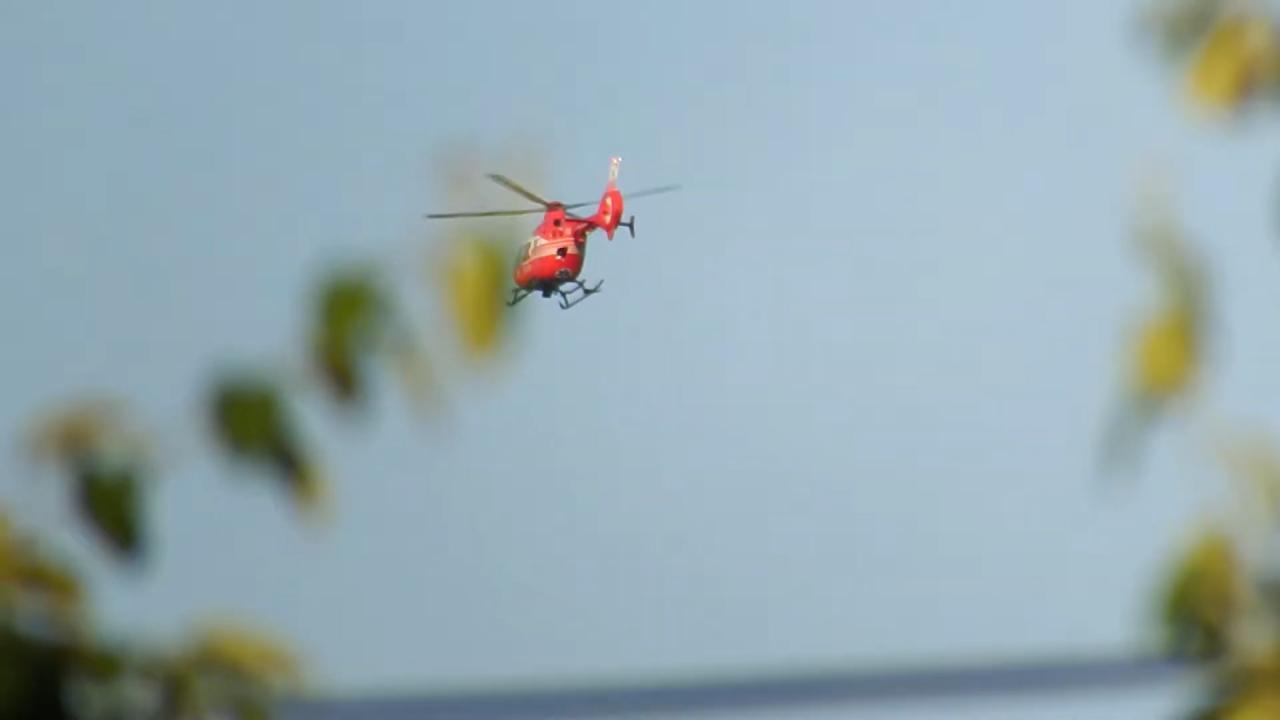Helicopter: (407, 134, 704, 328)
